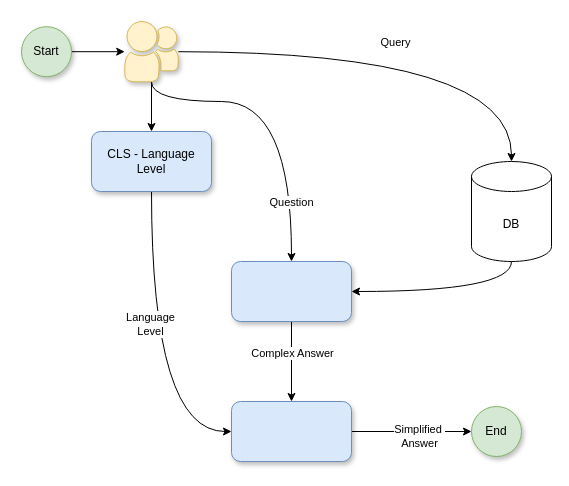
Some shapes in this 569 by 486 pixel diagram are drawn without their labels. The centre of each missing label's shape, as x and y in pixels:
Chat LLM: the point at 292,292
Language Simplification: the point at 292,432
